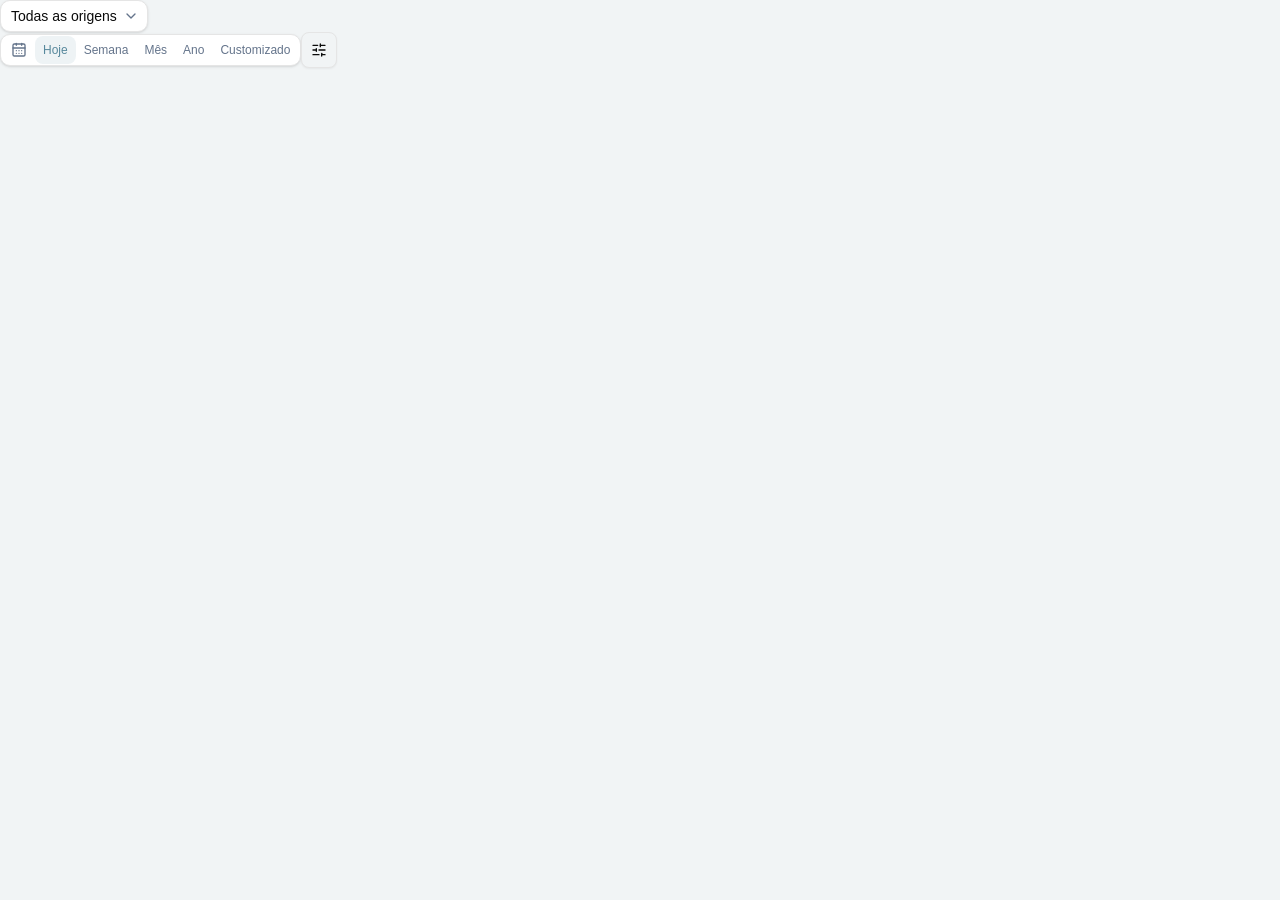
Test case: FiltersControls › closes the drawer when Aplicar is clicked
Step 1. Click the button "Customizado" → (255, 50), box left=212, top=36, right=298, bottom=64
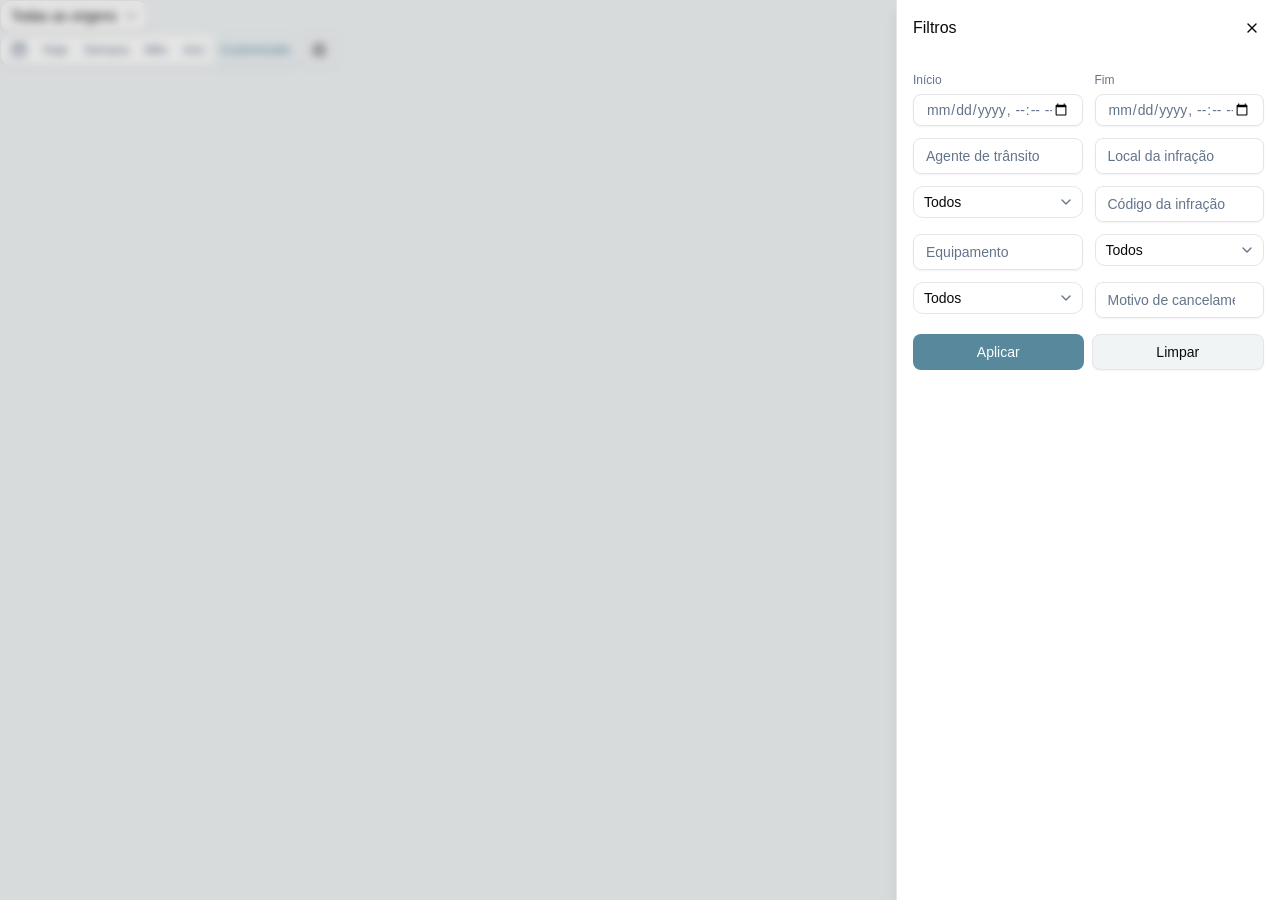
Check: the field labelled "Início" is shown, box left=913, top=94, right=1082, bottom=126
Step 2. Click the button "Aplicar" → (998, 352), box left=913, top=334, right=1084, bottom=370
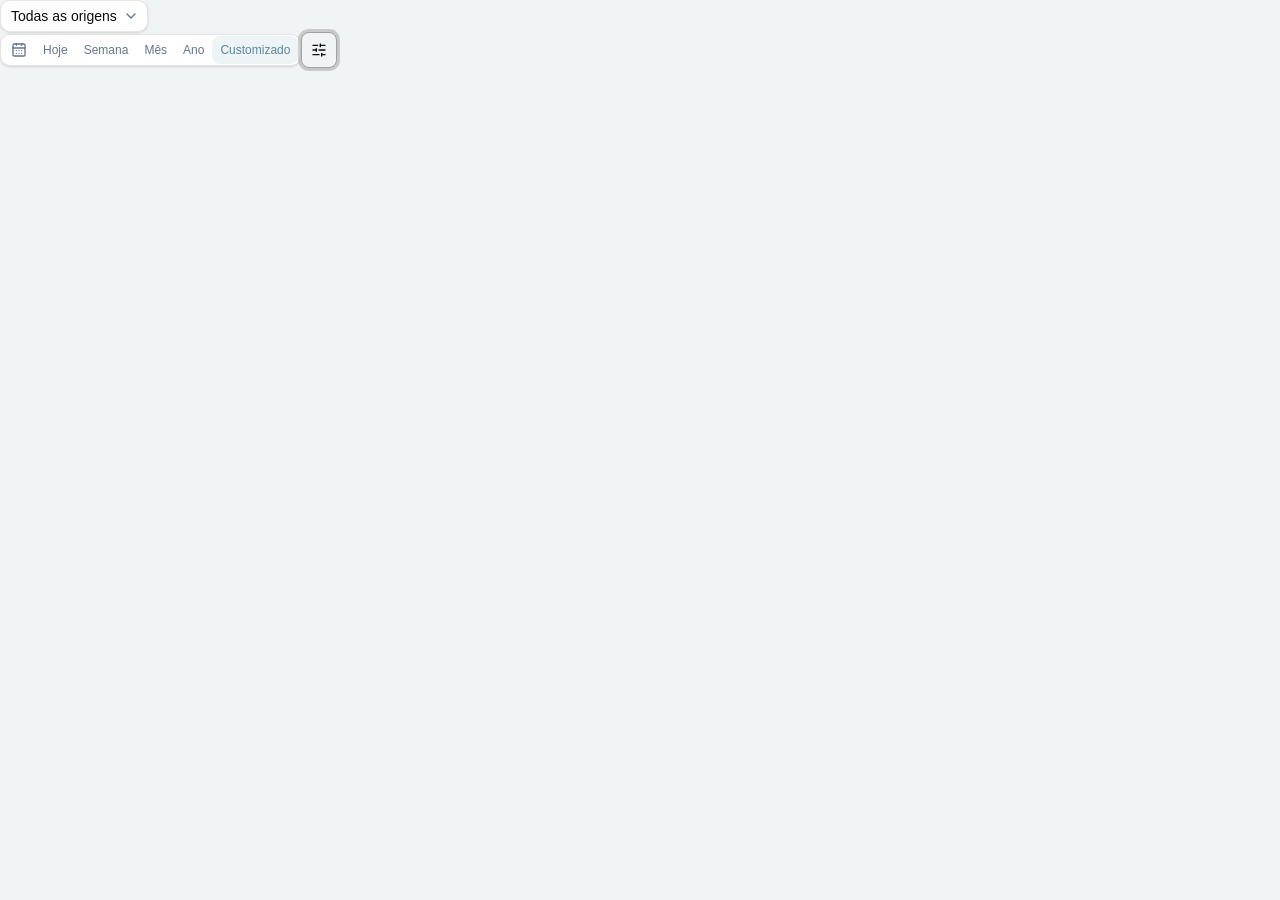
Check: the label labelled "Início" is gone
